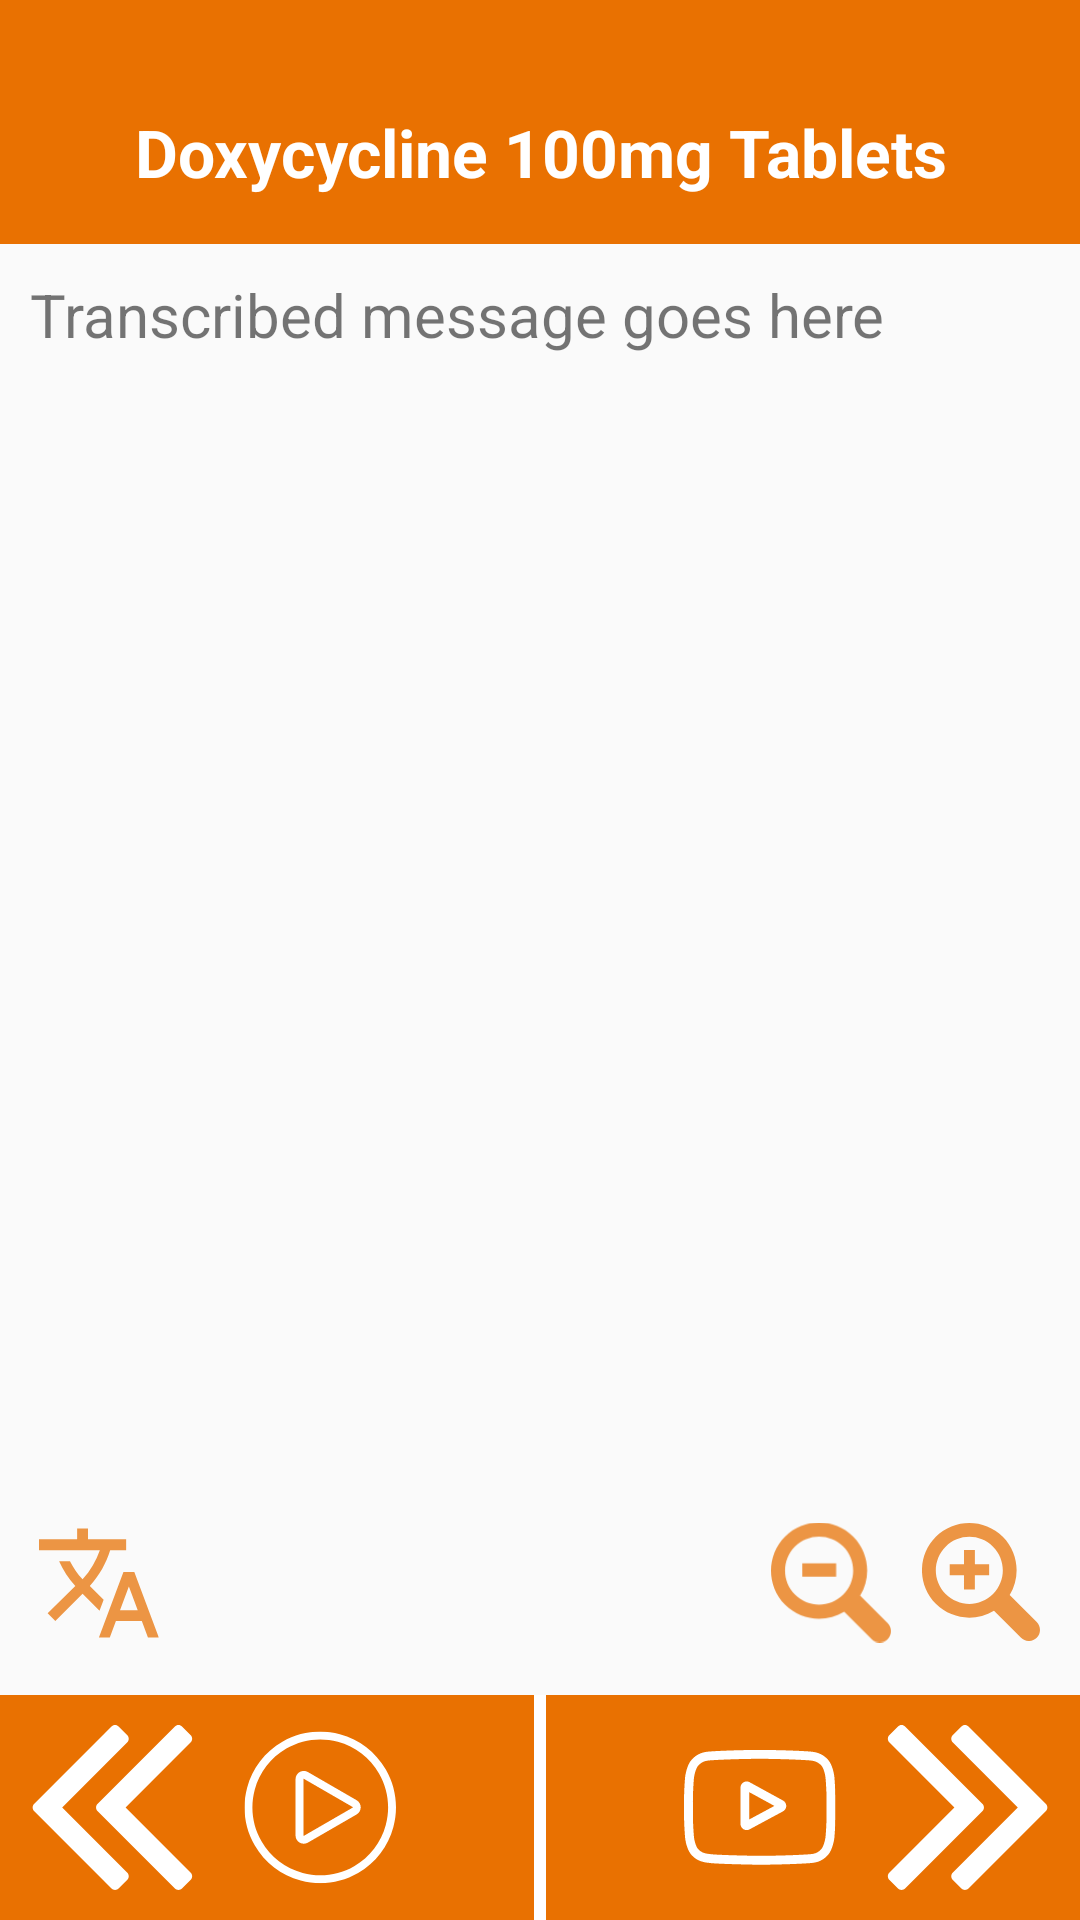

Locate icon controls on the screen. Image size 1080w x 1920h, boxes as (x1, y1, x2, y2).
Translate: (39, 1528, 159, 1638)
Zoom In: (922, 1523, 1040, 1641)
Zoom Out: (771, 1523, 891, 1643)
